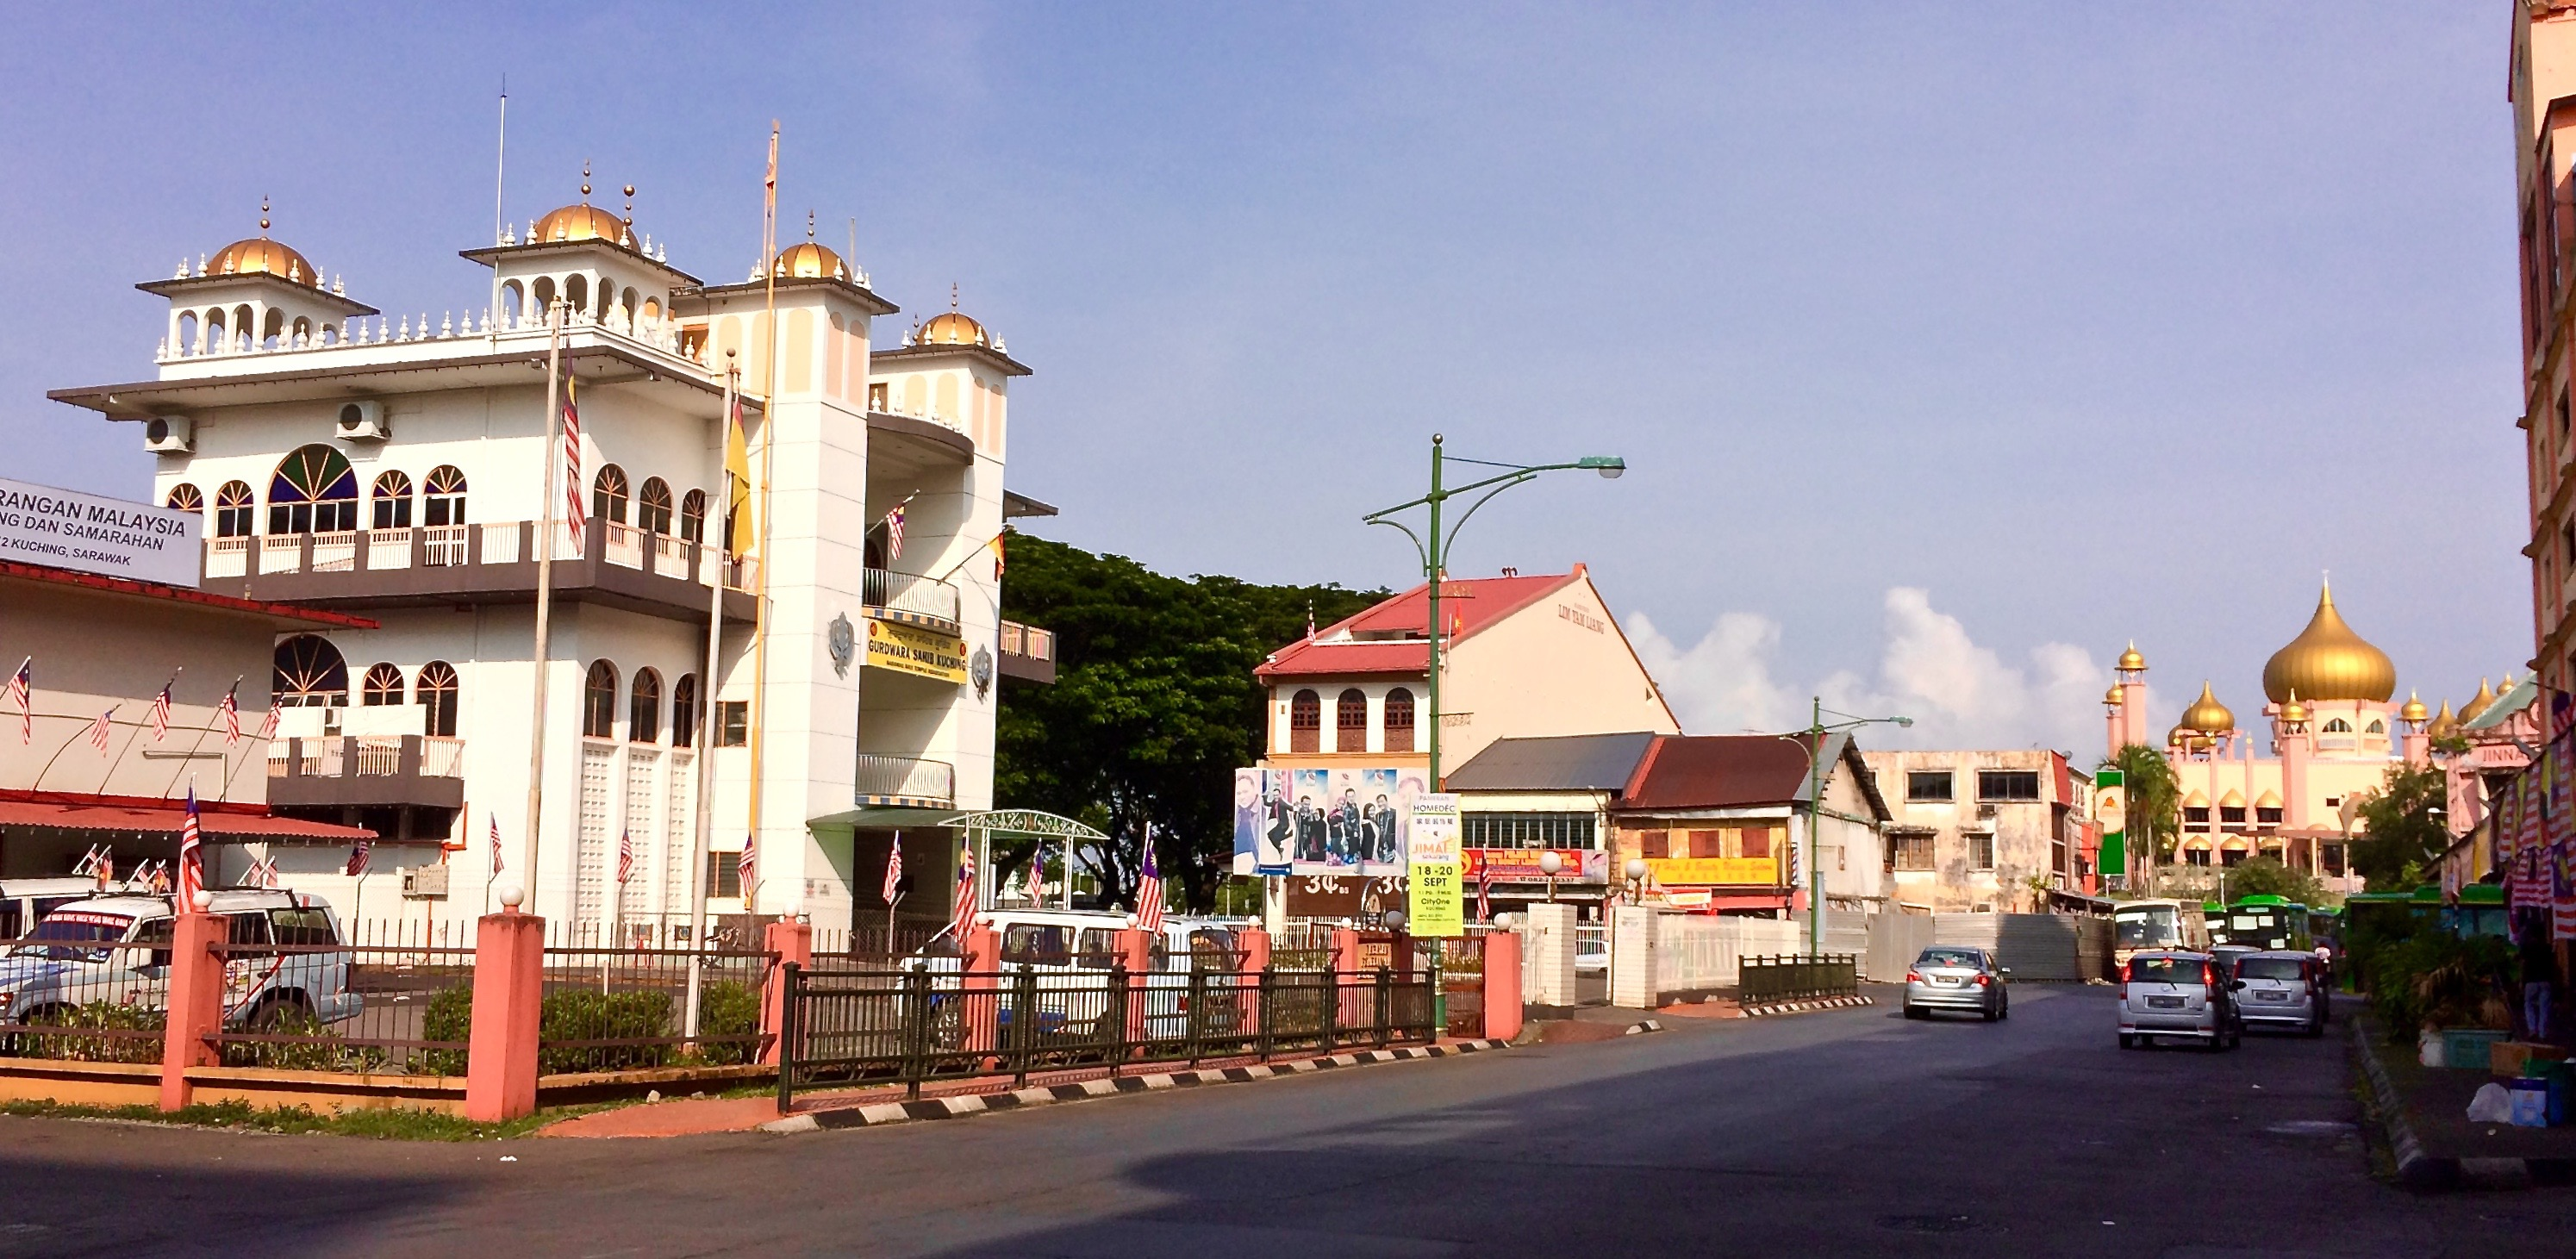Gurdwara: (118, 128, 1038, 1009)
